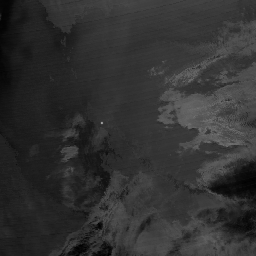Target: (99, 120, 104, 125)
